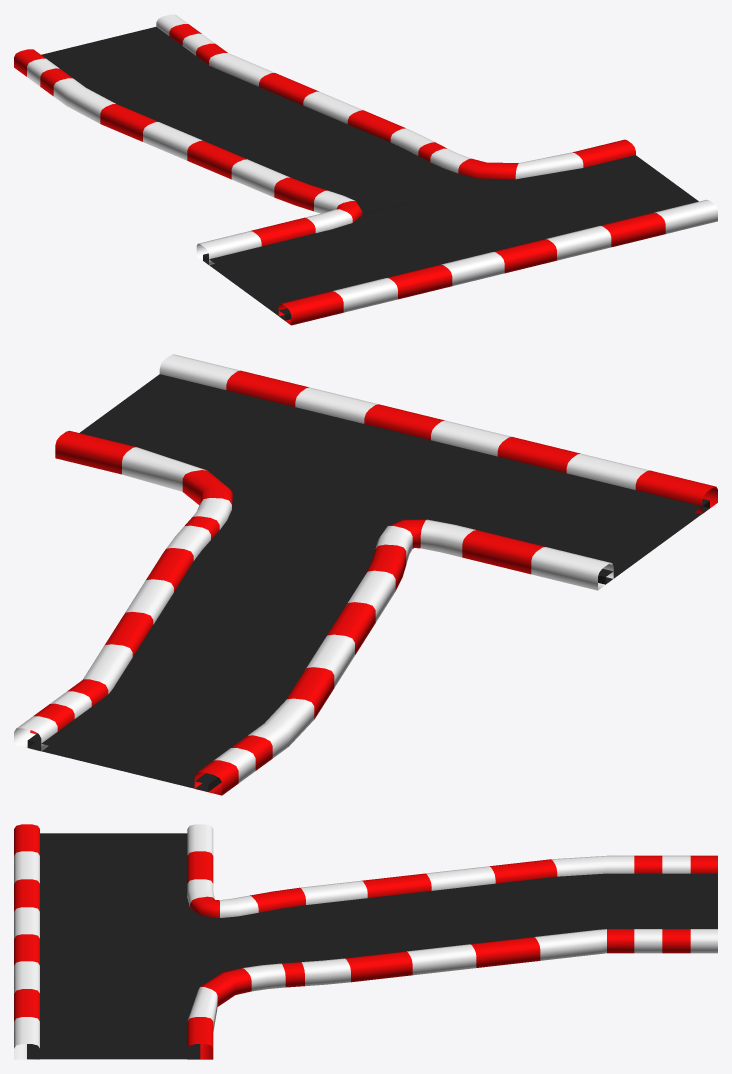
The model's file is TwoSidesTrack01.obj.
The picture shows the model from 3 angles, top to bottom: view 1: azimuth 30°, elevation 25°; view 2: azimuth 150°, elevation 25°; view 3: azimuth 270°, elevation 25°; orthographic projection. The views are drawn at different scales.
Parts seen in each view (by area): view 1: TwoSidesTrack01_Cube.003; view 2: TwoSidesTrack01_Cube.003; view 3: TwoSidesTrack01_Cube.003.
Boxes of the visible parts, left/top/right/bottom form: TwoSidesTrack01_Cube.003: left=14, top=14, right=717, bottom=325; TwoSidesTrack01_Cube.003: left=14, top=354, right=717, bottom=795; TwoSidesTrack01_Cube.003: left=14, top=824, right=717, bottom=1059.
Size of the model in its own units: 54 by 1.78 by 73.12.
